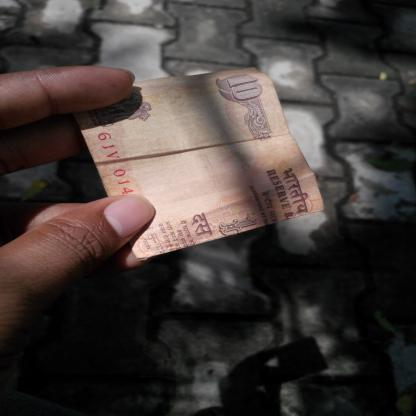Old10Front: (75, 67, 325, 260)
